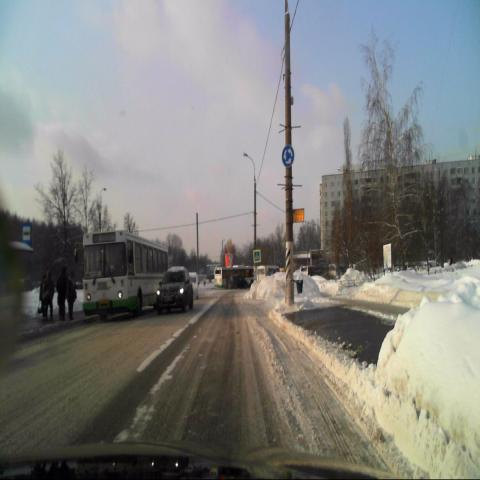4_3: (281, 144, 295, 169)
